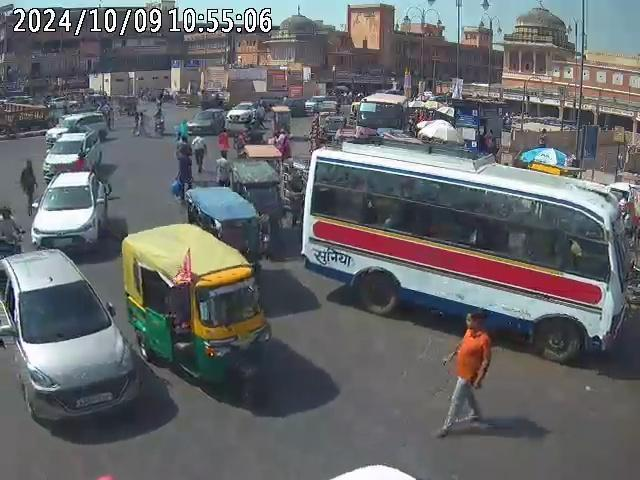auto: (120, 224, 272, 396), (186, 186, 258, 258), (232, 158, 282, 228), (272, 104, 294, 134)
bus: (301, 133, 629, 360)
car: (0, 246, 140, 425), (30, 169, 110, 256), (41, 111, 109, 178), (187, 107, 227, 137), (226, 102, 254, 125)
person: (442, 306, 495, 438), (174, 133, 194, 190), (0, 205, 21, 251), (18, 159, 37, 207), (217, 129, 231, 157), (233, 129, 247, 153)
